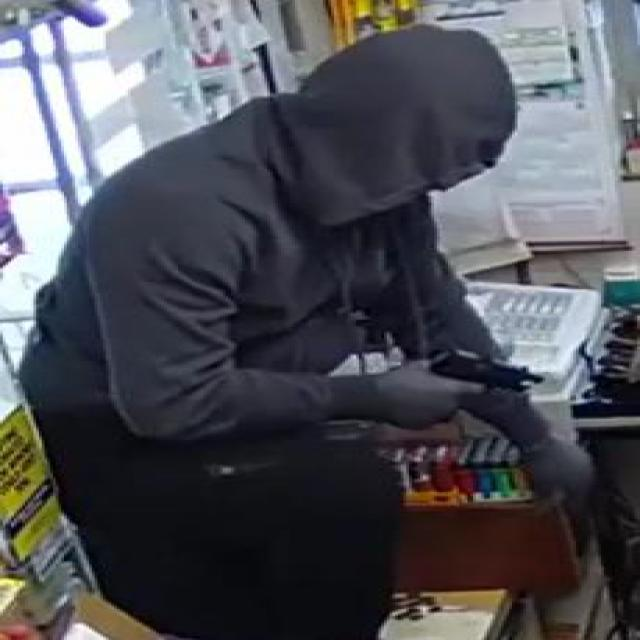Gun: (416, 343, 549, 421)
